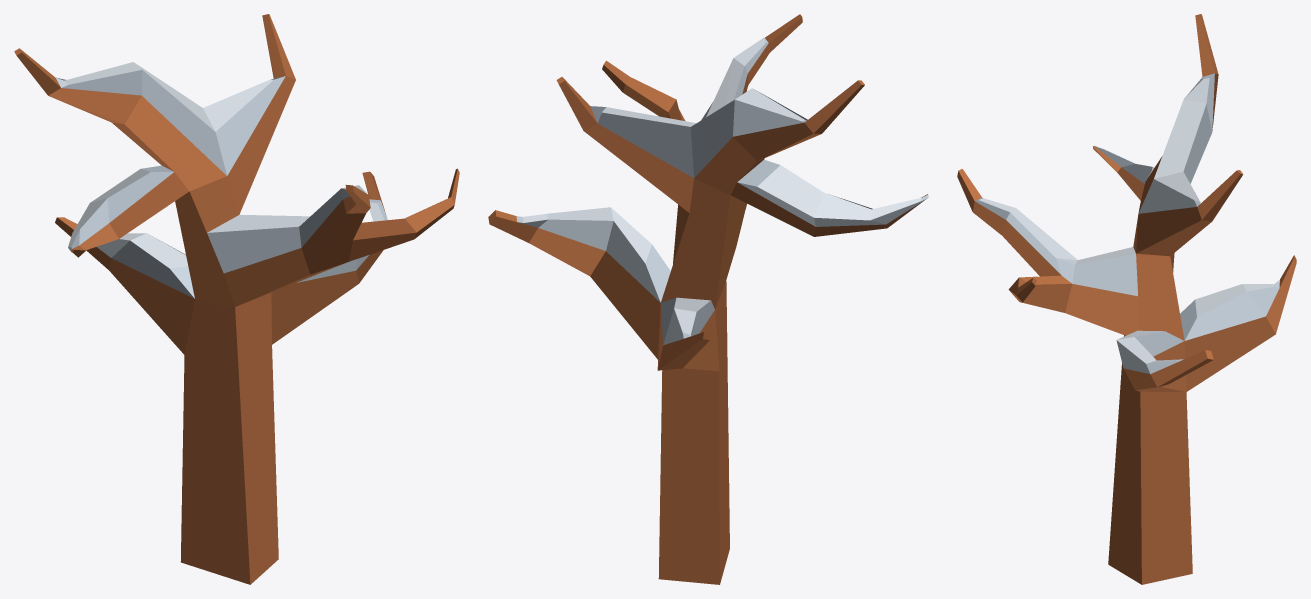
Rendered from TreeWinter2_Alt2.fbx.
The picture shows the model from 3 angles, left to right: view 1: azimuth 30°, elevation 25°; view 2: azimuth 150°, elevation 25°; view 3: azimuth 270°, elevation 25°; orthographic projection. The views are drawn at different scales.
Visible parts, largest first — view 1: TreeWinter2_Alt2; view 2: TreeWinter2_Alt2; view 3: TreeWinter2_Alt2.
Boxes of the visible parts, x1,y1,x2,y2 form: TreeWinter2_Alt2: [14, 14, 459, 584]; TreeWinter2_Alt2: [488, 14, 928, 584]; TreeWinter2_Alt2: [957, 14, 1296, 584].
Bounding box in the file's own units: 1.31 × 1.84 × 1.19.
